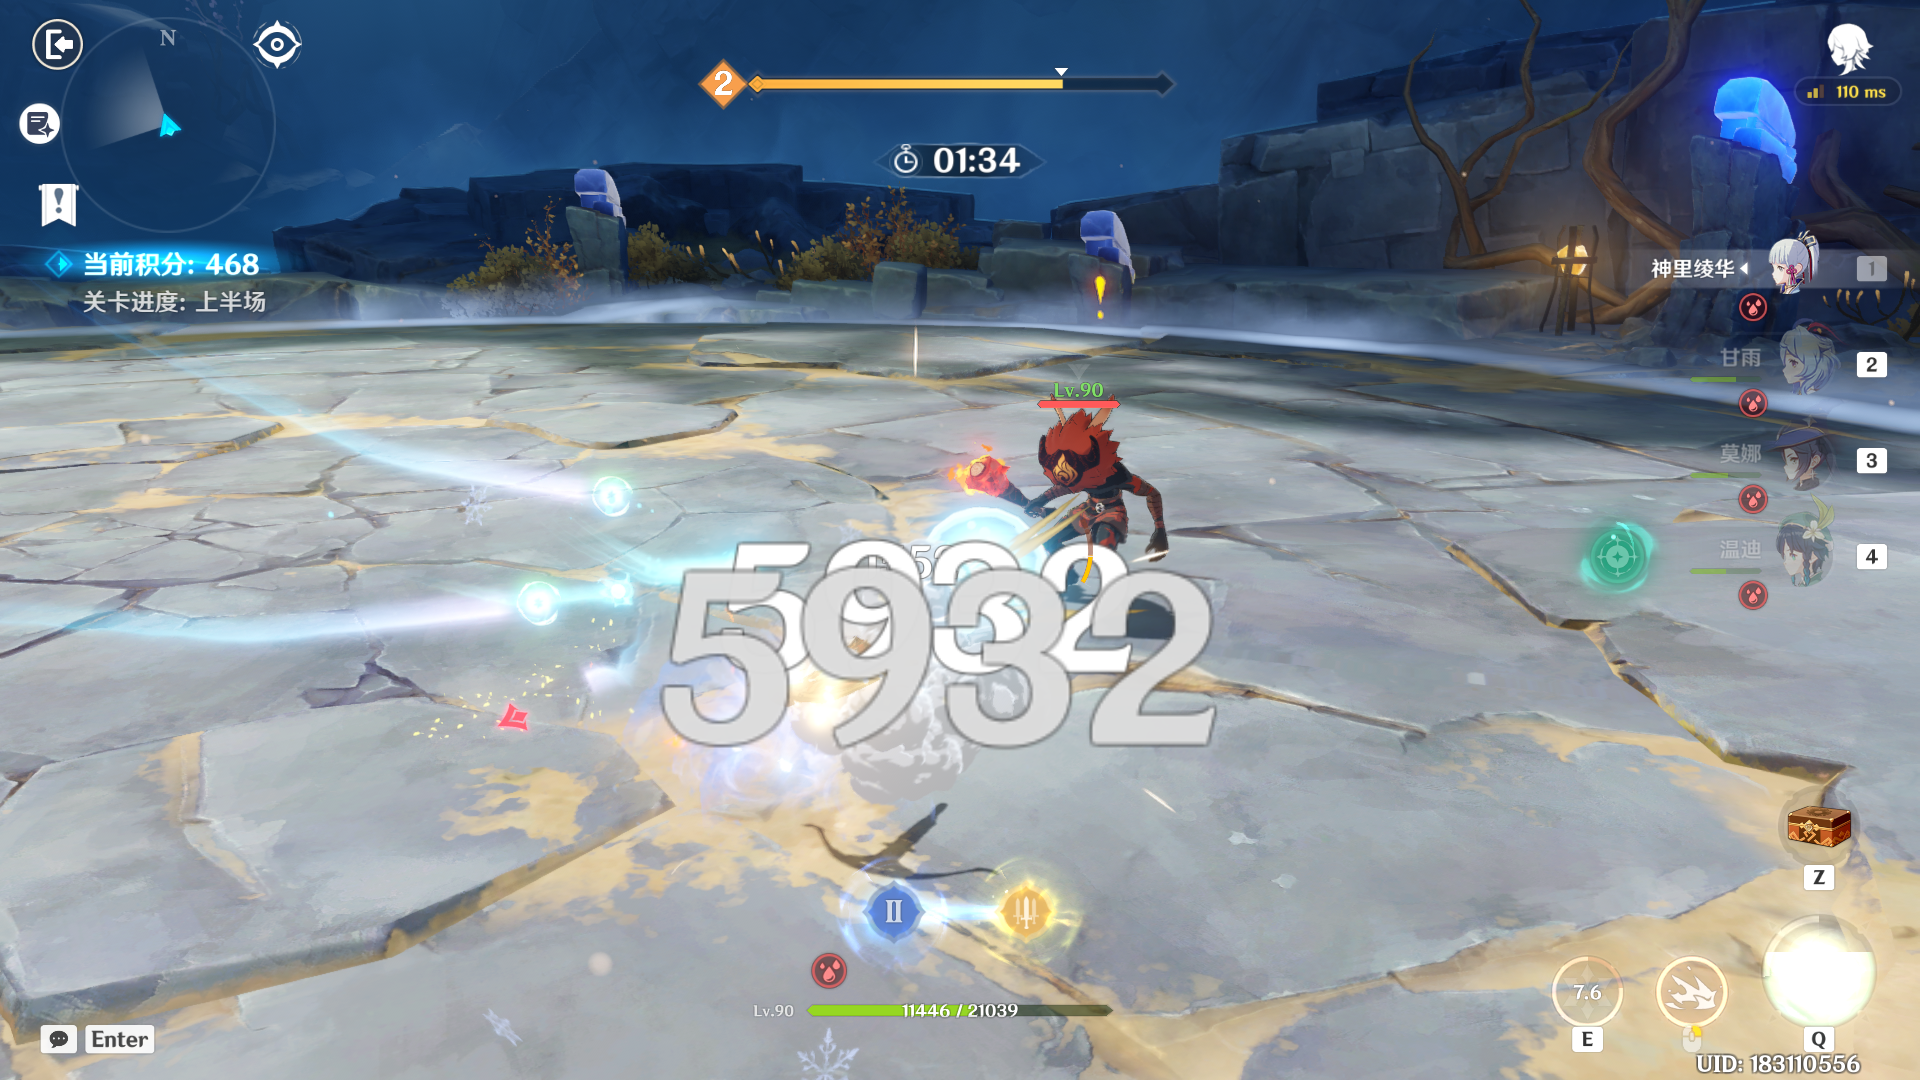hili: (955, 375, 1197, 647)
